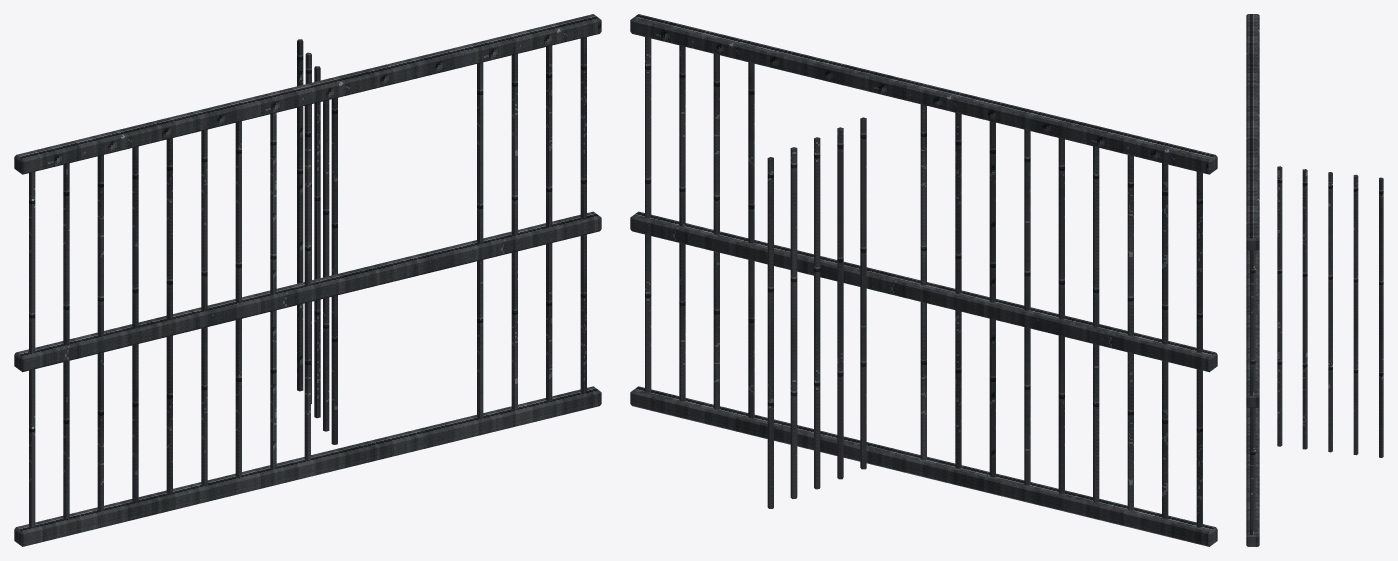
Rendered from int_cell_bars.glb.
3 renders of one model, left to right at view 1: azimuth 30°, elevation 25°; view 2: azimuth 150°, elevation 25°; view 3: azimuth 270°, elevation 25°, orthographic. The views are drawn at different scales.
Parts seen in each view (by area): view 1: int_cell_bars_mesh; view 2: int_cell_bars_mesh; view 3: int_cell_bars_mesh.
Boxes of the visible parts, x1,y1,x2,y2 form: int_cell_bars_mesh: (14,14,601,546); int_cell_bars_mesh: (630,14,1217,546); int_cell_bars_mesh: (1246,14,1383,546).
Size of what is drawn, in the model's own units: 4 by 2.55 by 1.03.
1 material, 1 textured.
